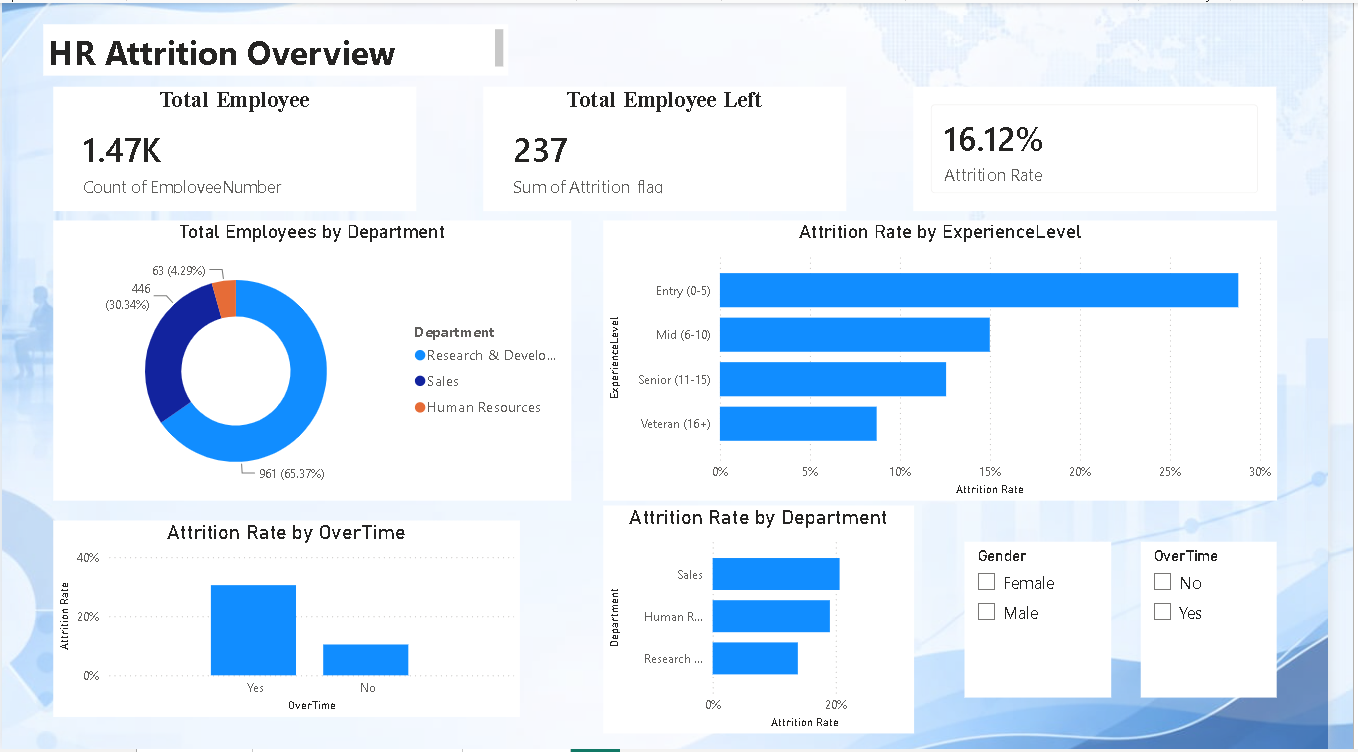

What the dashboard file says about the page in this screenshot:
{"tool":"powerbi","page":{"name":"Overview","canvas":[1280,720],"ordinal":0},"visuals":[{"type":"cardVisual","title":"Total Employee","fields":{"Data":["CountNonNull(cleaned_hr_data.EmployeeNumber)"]},"box":[50,81.2,350,120],"z":0},{"type":"cardVisual","title":"Total Employee Left","fields":{"Data":["Sum(cleaned_hr_data.Attrition_flag)"]},"box":[465,81.2,350,120],"z":1000},{"type":"cardVisual","fields":{"Data":["cleaned_hr_data.Attrition Rate"]},"box":[880,81.2,350,120],"z":2000},{"type":"clusteredBarChart","fields":{"Y":["cleaned_hr_data.Attrition Rate"],"Category":["cleaned_hr_data.Department","cleaned_hr_data.JobRole"]},"box":[580,485,300,220],"z":3000},{"type":"clusteredColumnChart","fields":{"Category":["cleaned_hr_data.OverTime"],"Y":["cleaned_hr_data.Attrition Rate"]},"box":[50,500,450,189.4],"z":4000},{"type":"slicer","fields":{"Values":["cleaned_hr_data.OverTime"]},"box":[1098.8,520,131.2,150],"z":5000},{"type":"slicer","fields":{"Values":["cleaned_hr_data.Gender"]},"box":[928.8,520,141.2,150],"z":6000},{"type":"donutChart","fields":{"Category":["cleaned_hr_data.Department"],"Y":["cleaned_hr_data.Total Employees"]},"box":[50,210,500,270],"z":7000},{"type":"clusteredBarChart","fields":{"Category":["cleaned_hr_data.ExperienceLevel"],"Y":["cleaned_hr_data.Attrition Rate"]},"box":[580,210,650,270.2],"z":8000},{"type":"textbox","box":[39.8,20.5,449,49.5],"z":11000}]}

Visuals, with their boxes in screenshot pixels (x1, y1, x2, y2), scaled from the page's 1280x720 canvas onto the 1358x752 screenshot:
"Total Employee" cardVisual: (left=53, top=85, right=424, bottom=210)
"Total Employee Left" cardVisual: (left=493, top=85, right=865, bottom=210)
cardVisual - cleaned_hr_data.Attrition Rate: (left=934, top=85, right=1305, bottom=210)
clusteredBarChart - cleaned_hr_data.Attrition Rate x cleaned_hr_data.Department: (left=615, top=507, right=934, bottom=736)
clusteredColumnChart - cleaned_hr_data.OverTime x cleaned_hr_data.Attrition Rate: (left=53, top=522, right=530, bottom=720)
slicer - cleaned_hr_data.OverTime: (left=1166, top=543, right=1305, bottom=700)
slicer - cleaned_hr_data.Gender: (left=985, top=543, right=1135, bottom=700)
donutChart - cleaned_hr_data.Department x cleaned_hr_data.Total Employees: (left=53, top=219, right=584, bottom=501)
clusteredBarChart - cleaned_hr_data.ExperienceLevel x cleaned_hr_data.Attrition Rate: (left=615, top=219, right=1305, bottom=502)
textbox: (left=42, top=21, right=519, bottom=73)
